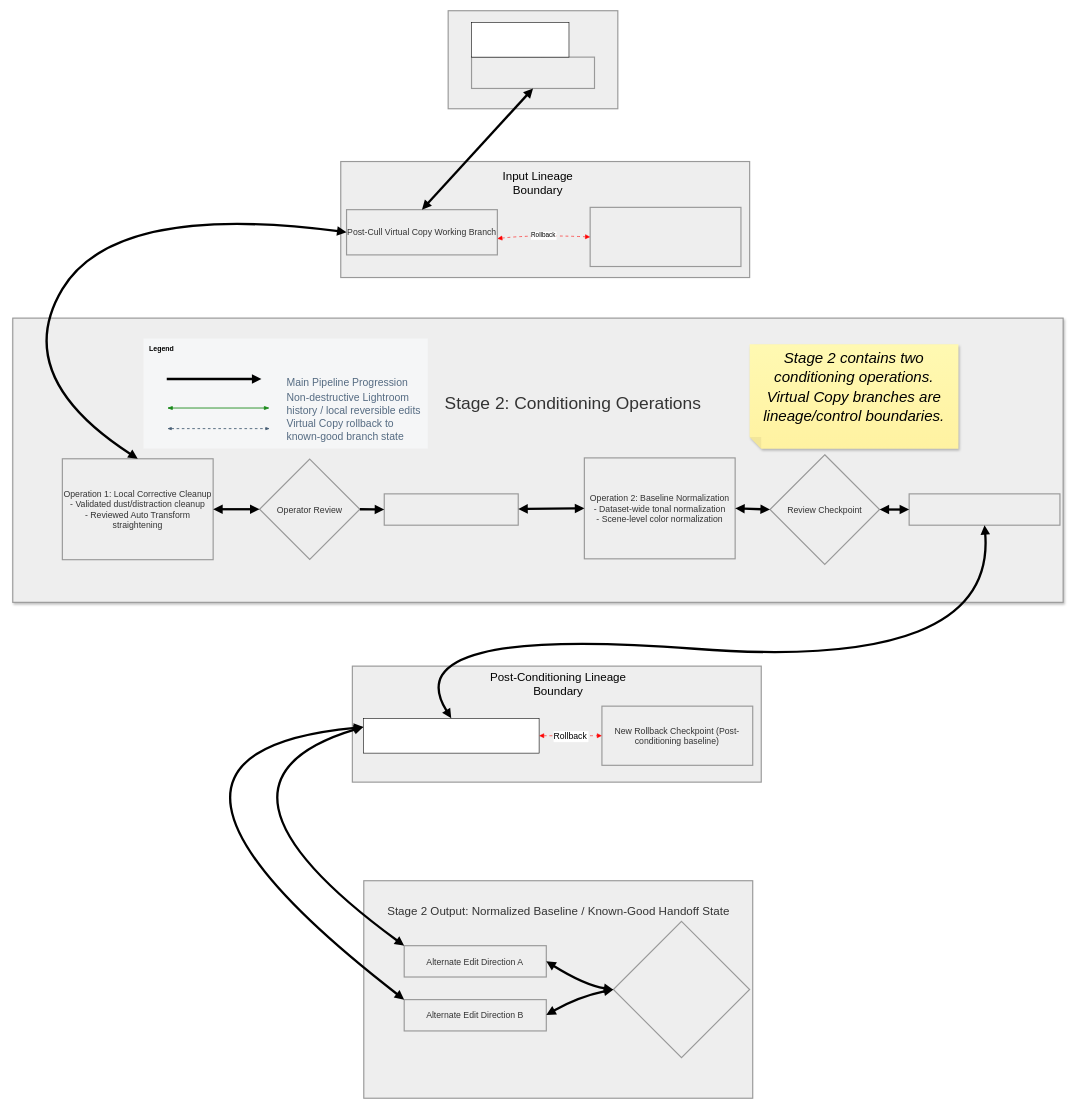
The diagram is 1077 pixels wide and 1108 high, and some of its shapes have lost their labels. Here are the shapes that lost their labels. From the top down, the centre of each, then its label:
At (x=520, y=39): "Stage 1 Output: Metadata-Applied Image Subset".
At (x=533, y=72): "Culled RAW Selection".
At (x=665, y=236): "Original Culled RAW Selection / Earliest Rollback Point".
At (x=451, y=509): "Cleaned Baseline Inputs".
At (x=984, y=509): "Normalized Baseline Images".
At (x=451, y=735): "Stage 2 Output Working Branch".
At (x=681, y=989): "Compare / Keep / Revert".
